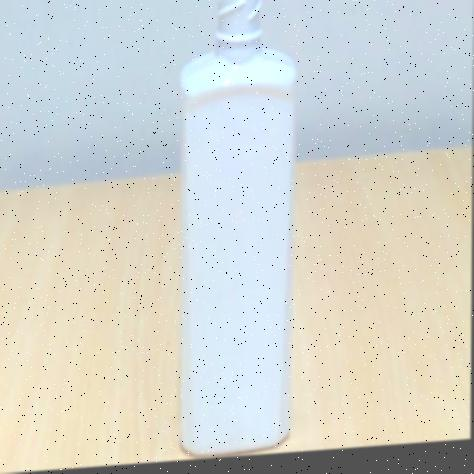bottle: (180, 0, 295, 455)
